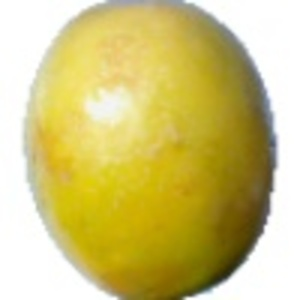maracujá: (22, 1, 280, 300)
